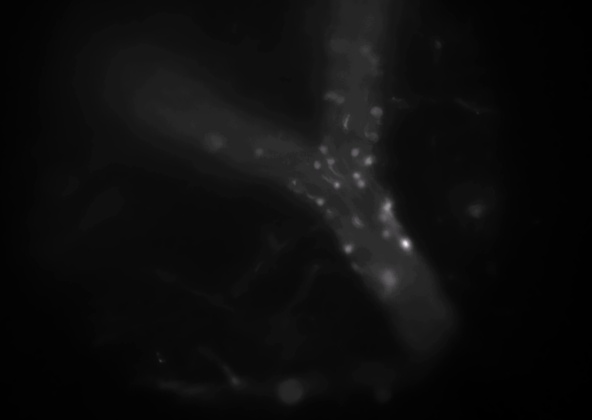cell: (398, 237, 412, 251), (369, 104, 383, 118), (348, 145, 362, 159), (362, 154, 376, 168), (317, 142, 331, 156), (310, 158, 324, 172), (324, 153, 338, 167), (323, 90, 337, 104), (350, 169, 364, 183), (332, 91, 346, 105), (354, 177, 368, 191), (341, 241, 355, 255), (382, 271, 396, 285), (380, 226, 394, 240), (381, 198, 395, 212), (377, 210, 391, 224), (379, 200, 393, 214), (313, 195, 327, 209), (287, 176, 301, 190), (253, 144, 267, 158), (208, 136, 222, 150), (358, 43, 372, 57), (365, 52, 379, 66), (332, 39, 346, 53), (329, 177, 343, 191), (367, 130, 381, 144)
